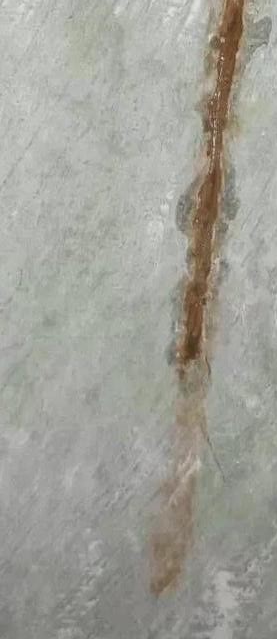Exposed reinforcement: (183, 1, 247, 360)
